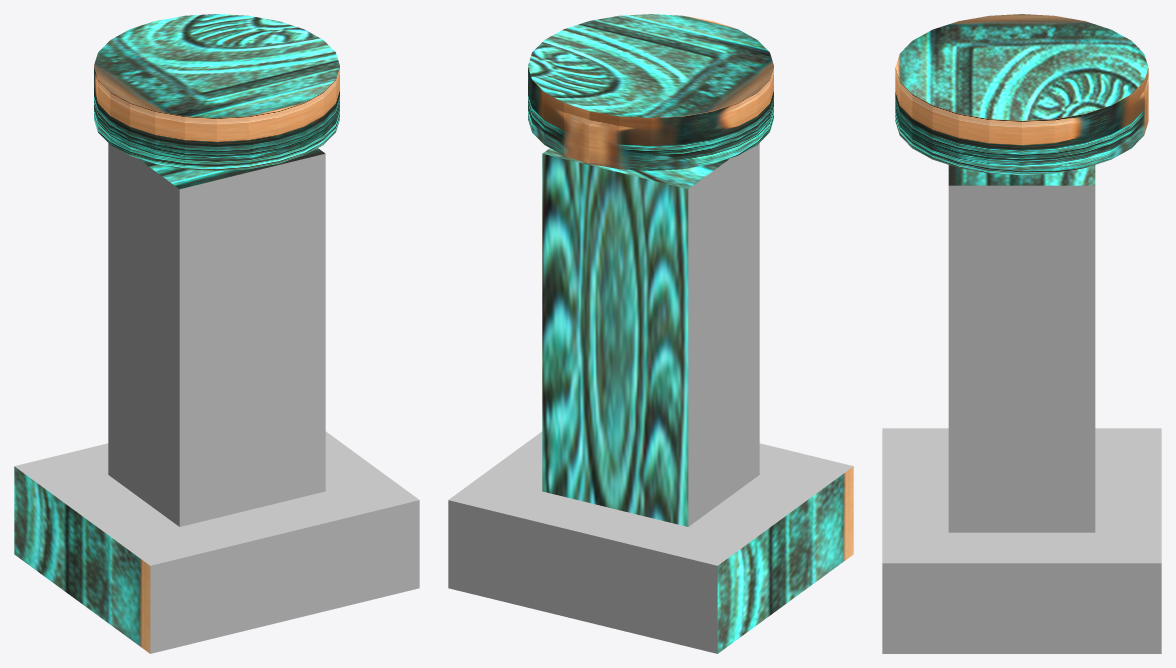
The model's file is SM_AF_Wayfinder_A.glb.
The picture shows the model from 3 angles, left to right: view 1: azimuth 30°, elevation 25°; view 2: azimuth 150°, elevation 25°; view 3: azimuth 270°, elevation 25°; orthographic projection. The views are drawn at different scales.
Parts seen in each view (by area): view 1: SM_AF_Wayfinder_A; view 2: SM_AF_Wayfinder_A; view 3: SM_AF_Wayfinder_A.
Part boxes in pixels (x1,y1,x2,y2): SM_AF_Wayfinder_A: [14, 14, 419, 653]; SM_AF_Wayfinder_A: [448, 14, 853, 653]; SM_AF_Wayfinder_A: [882, 14, 1161, 653].
Bounding box in the file's own units: 0.96 × 1.72 × 0.84.
Materials: 2 (1 with a texture image).
